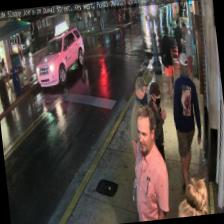person: (168, 51, 208, 199), (126, 104, 172, 222), (125, 76, 160, 202), (143, 80, 174, 187)
